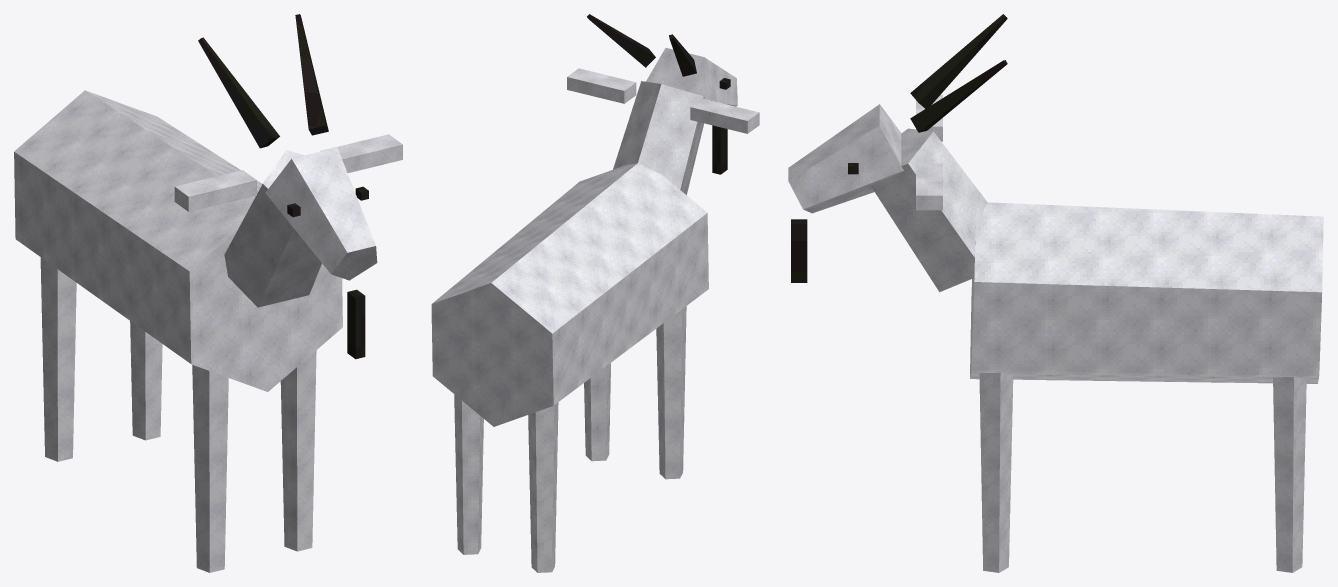
Rendered from cabra.obj.
The picture shows the model from 3 angles, left to right: view 1: azimuth 30°, elevation 25°; view 2: azimuth 150°, elevation 25°; view 3: azimuth 270°, elevation 25°; orthographic projection. The views are drawn at different scales.
Parts seen in each view (by area): view 1: cabra; view 2: cabra; view 3: cabra.
Part boxes in pixels (bbox=[...]): cabra: bbox=[14, 14, 402, 572]; cabra: bbox=[431, 14, 759, 572]; cabra: bbox=[788, 14, 1323, 572].
Size of the model in its own units: 0.44 by 1.03 by 0.985.
2 materials, 2 textured.
